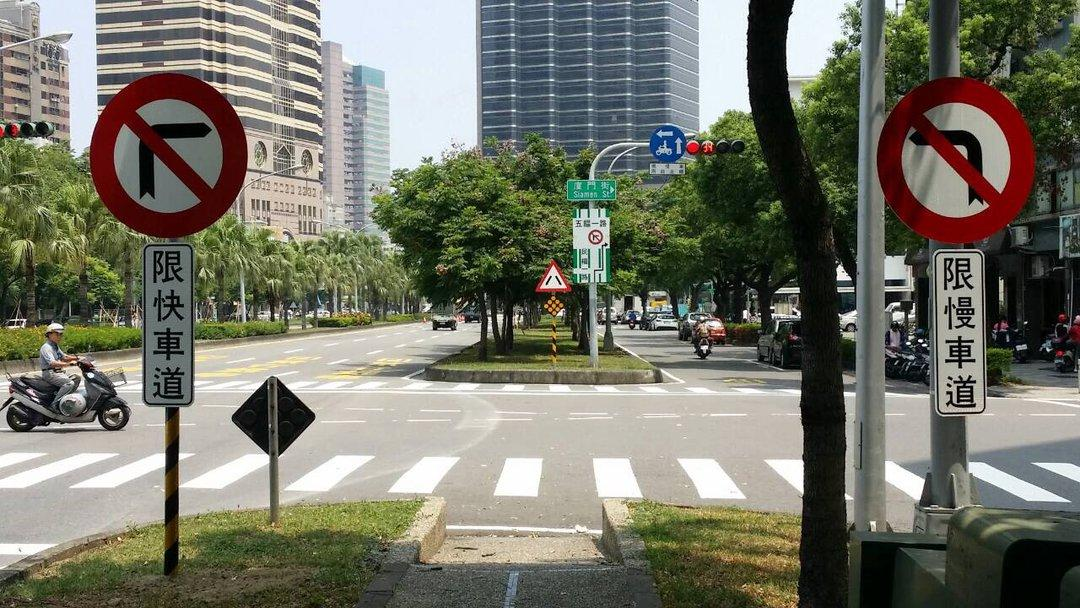motorcycle: (0, 315, 134, 437)
no_left_turn: (876, 76, 1035, 242)
no_right_turn: (88, 72, 247, 236)
red_traffic_light: (685, 138, 744, 154)
